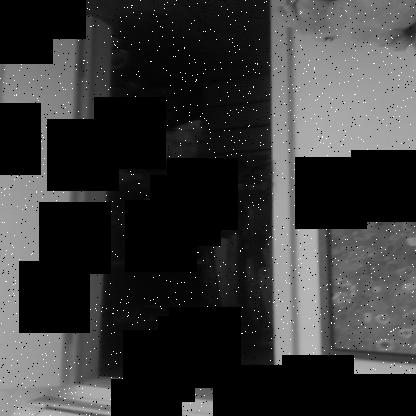Porte: (1, 1, 300, 415)
